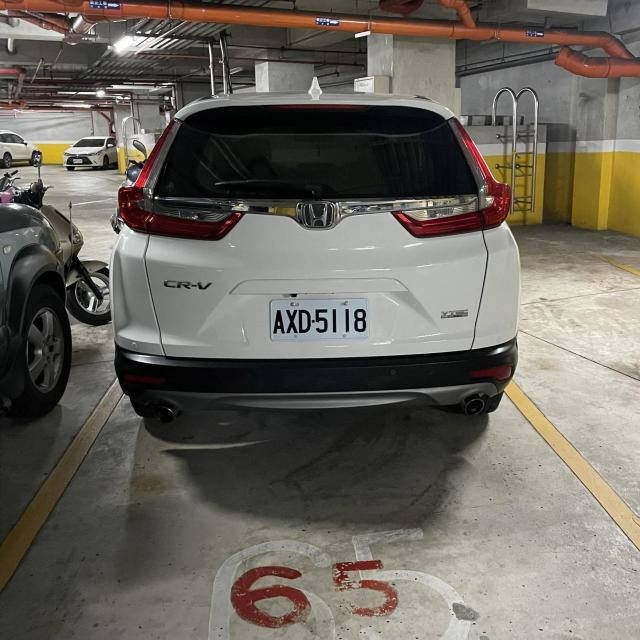W: (266, 290, 375, 348)
